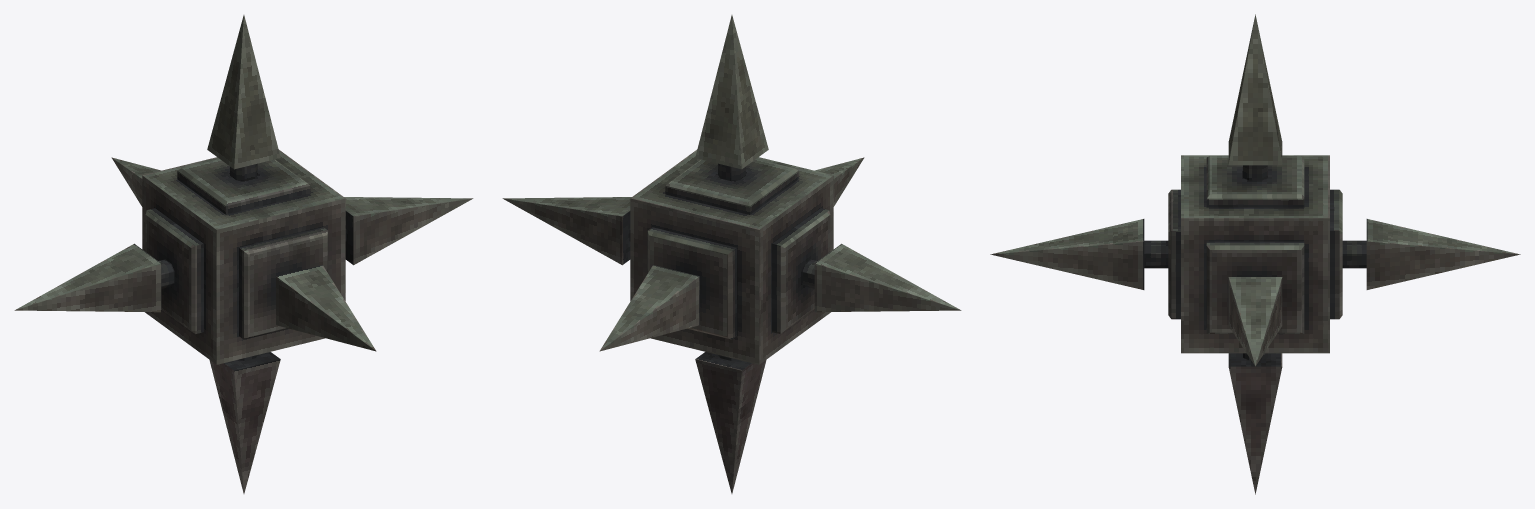
The model's file is stone-ball-spiked.glb.
3 views of the same model, side by side, from view 1: azimuth 30°, elevation 25°; view 2: azimuth 150°, elevation 25°; view 3: azimuth 270°, elevation 25° (orthographic).
Visible parts, largest first — view 1: Stone_Ball_Spiked; view 2: Stone_Ball_Spiked; view 3: Stone_Ball_Spiked.
Part boxes in pixels (left/top/right/bottom): Stone_Ball_Spiked: left=14, top=15, right=473, bottom=493; Stone_Ball_Spiked: left=502, top=15, right=961, bottom=493; Stone_Ball_Spiked: left=990, top=14, right=1520, bottom=494.
Size of the model in its own units: 3.49 by 3.49 by 3.49.
Materials: 1 (1 with a texture image).
